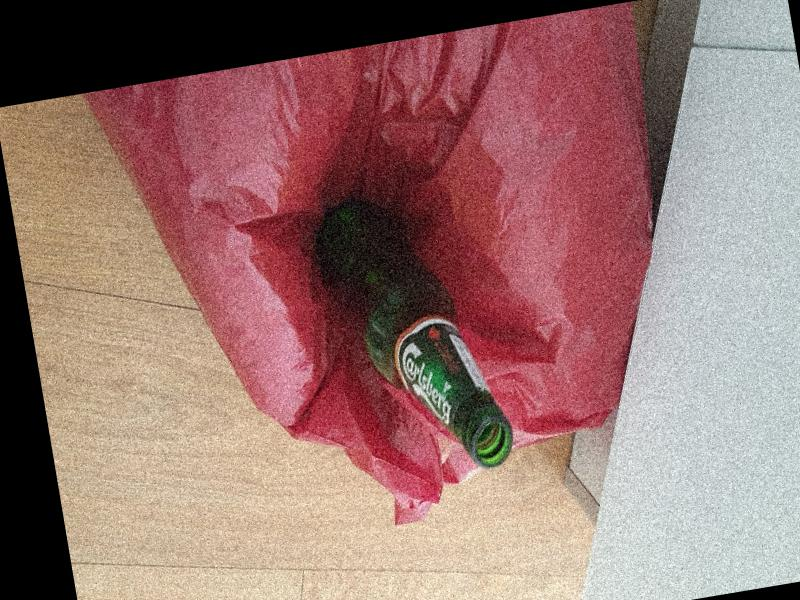Beer: (308, 185, 516, 492)
